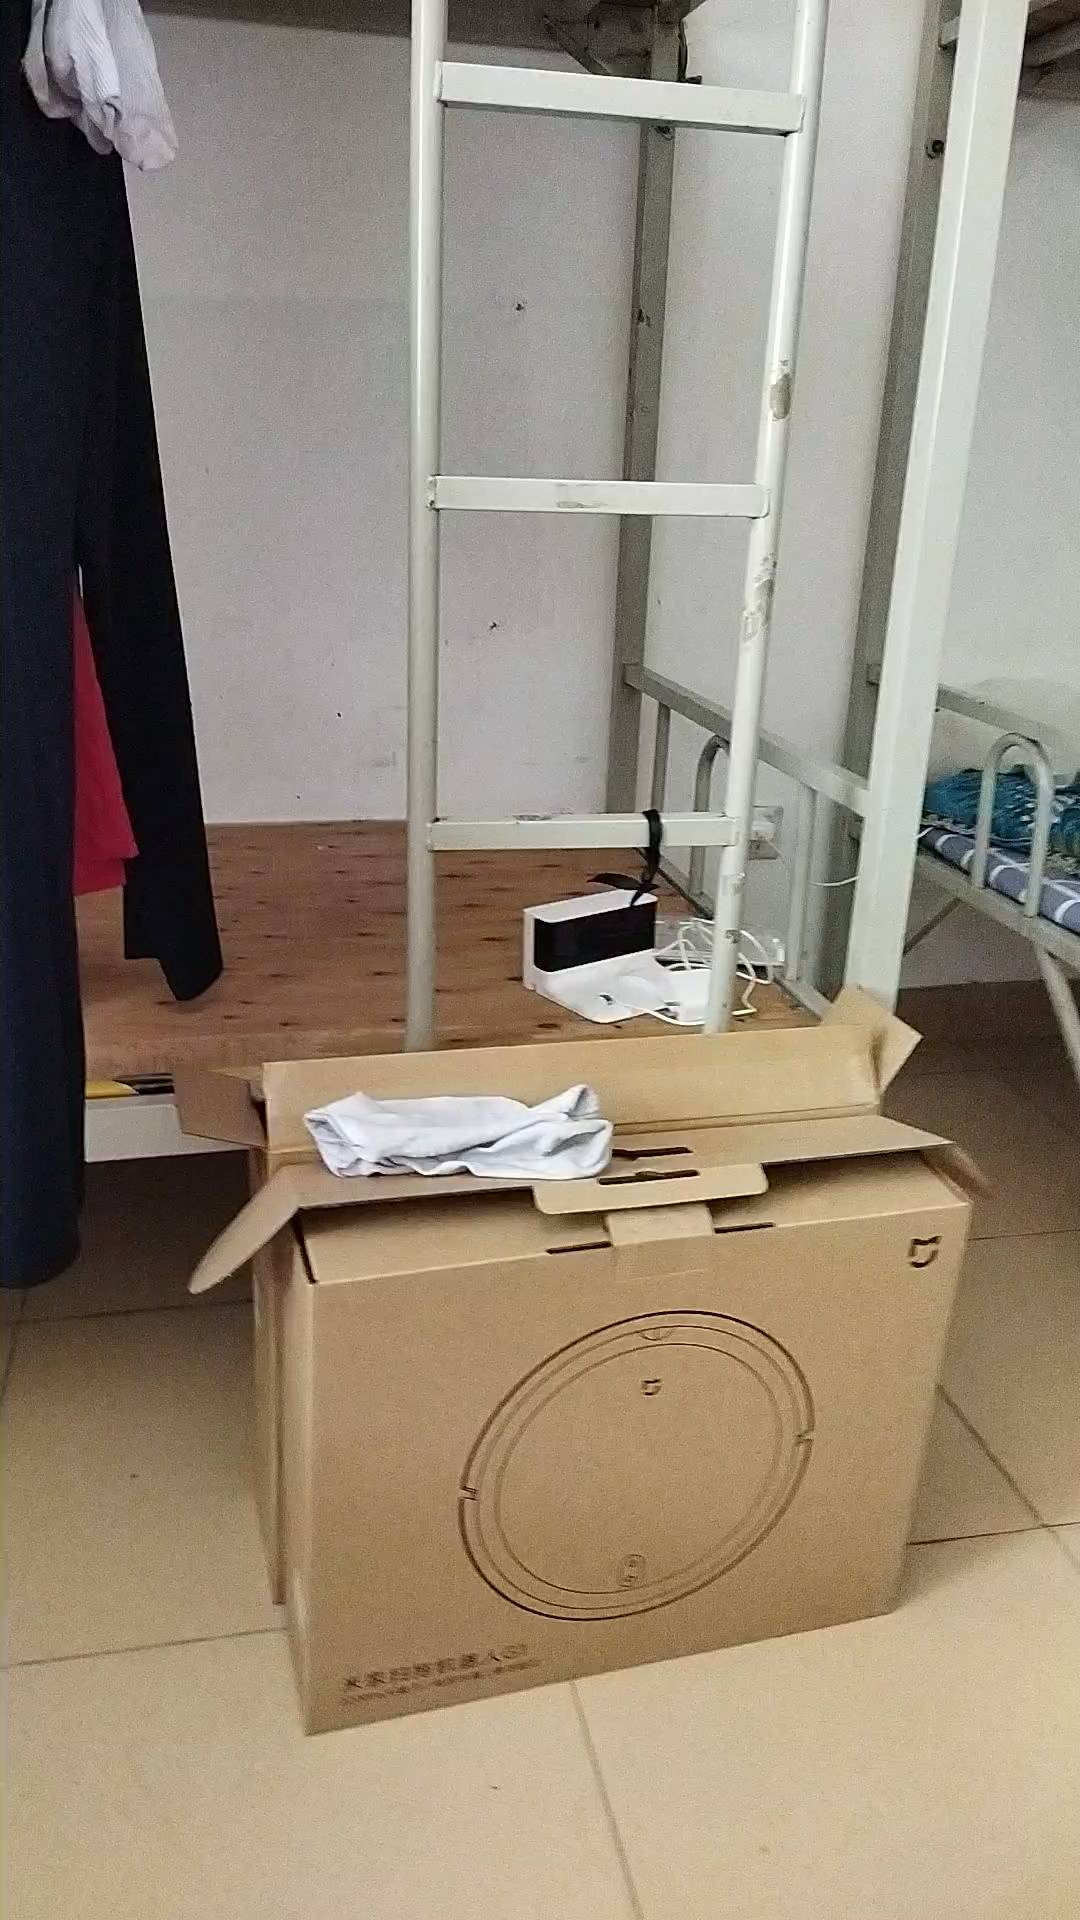recharge seat: (520, 886, 694, 1027)
